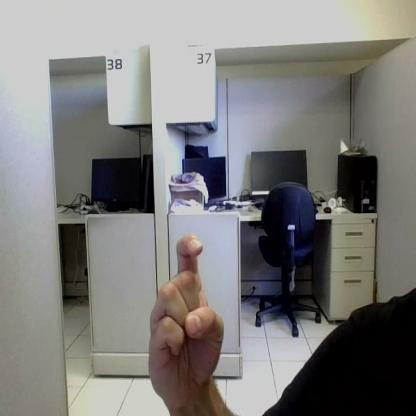X: (149, 235, 223, 406)
